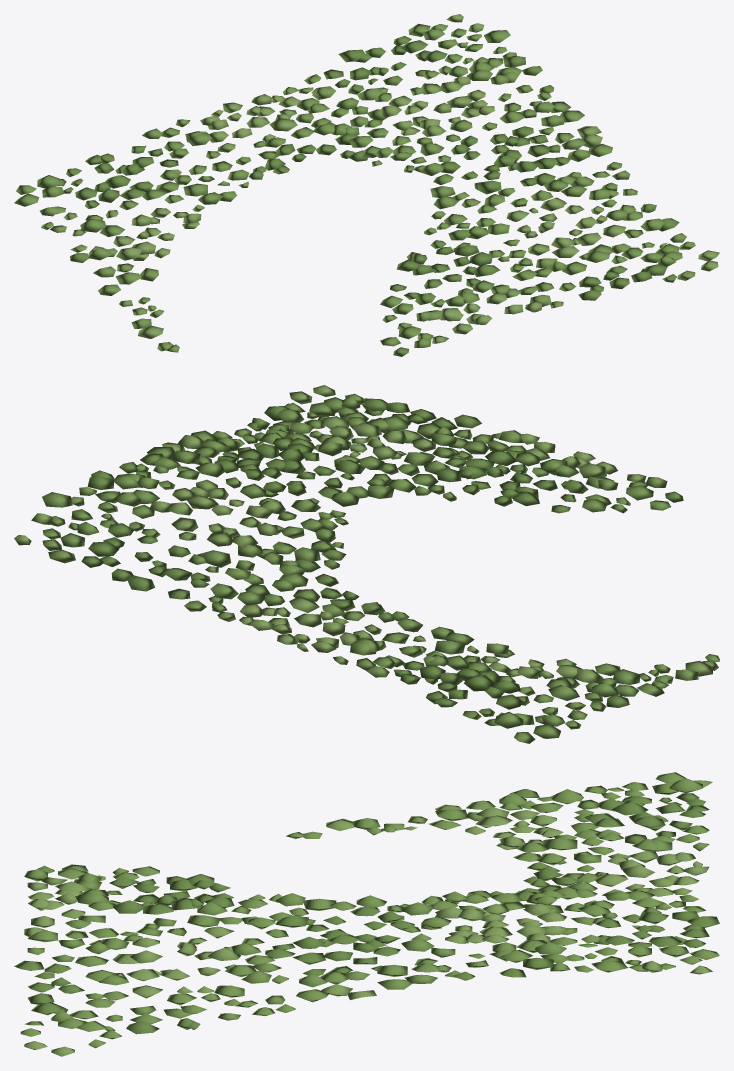
File: canopy-1--3-4.glb
3 renders of one model, top to bottom at view 1: azimuth 30°, elevation 25°; view 2: azimuth 150°, elevation 25°; view 3: azimuth 270°, elevation 25°, orthographic. The views are drawn at different scales.
Bounding box in the file's own units: 522 × 130 × 520.
Materials: 1 (1 with a texture image).
